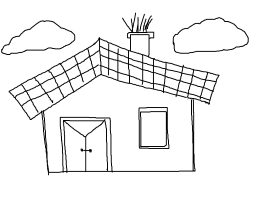clouds: (171, 16, 250, 54), (0, 17, 77, 55)
door: (58, 114, 113, 177)
open_window: (136, 105, 170, 150)
roof: (8, 36, 221, 121)
smoking_chimney: (117, 10, 160, 57)
wall: (40, 75, 195, 173)
